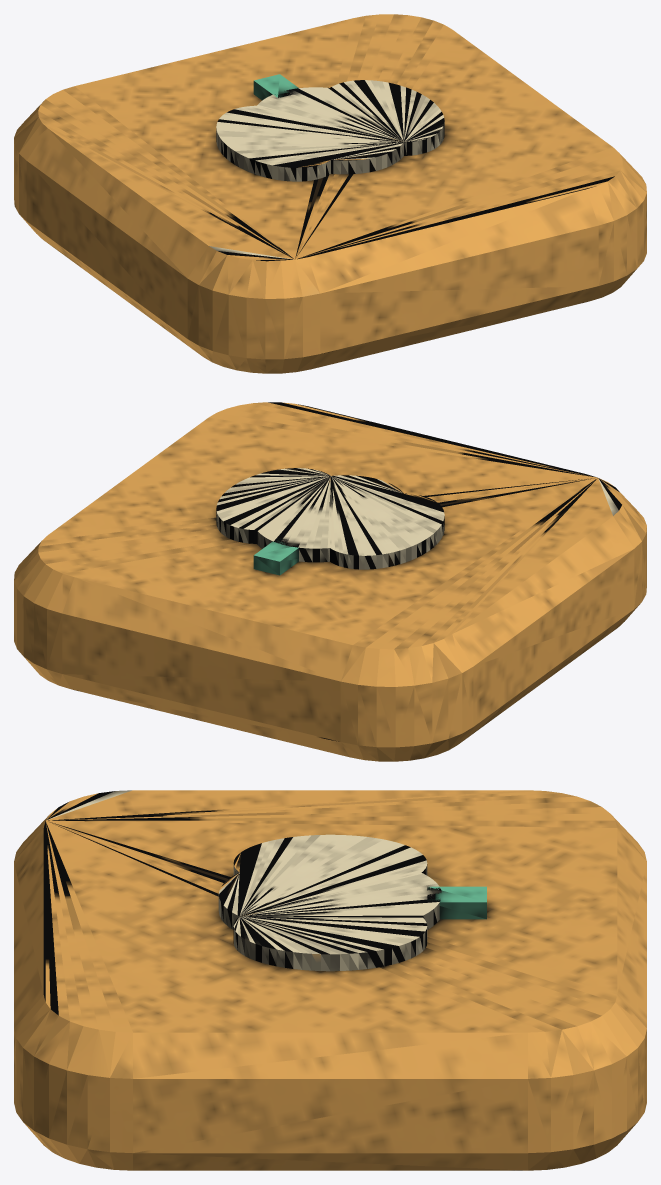
The model's file is Tile_Special.glb.
3 views of the same model, one above another, from view 1: azimuth 30°, elevation 25°; view 2: azimuth 150°, elevation 25°; view 3: azimuth 270°, elevation 25° (orthographic). The views are drawn at different scales.
Parts seen in each view (by area): view 1: Body, Motif_Pumpkin, Motif_PumpkinStem; view 2: Body, Motif_Pumpkin, Motif_PumpkinStem; view 3: Body, Motif_Pumpkin, Motif_PumpkinStem.
Part boxes in pixels (x1,y1,x2,y2): Body: (14, 14, 646, 373); Motif_Pumpkin: (216, 80, 444, 181); Motif_PumpkinStem: (253, 74, 298, 100); Body: (14, 402, 646, 761); Motif_Pumpkin: (216, 468, 444, 569); Motif_PumpkinStem: (253, 538, 298, 575); Body: (14, 790, 646, 1170); Motif_Pumpkin: (218, 834, 441, 971); Motif_PumpkinStem: (427, 886, 486, 919).
Size of the model in its own units: 0.85 by 0.225 by 0.85.
Materials: 3 (3 with a texture image).
